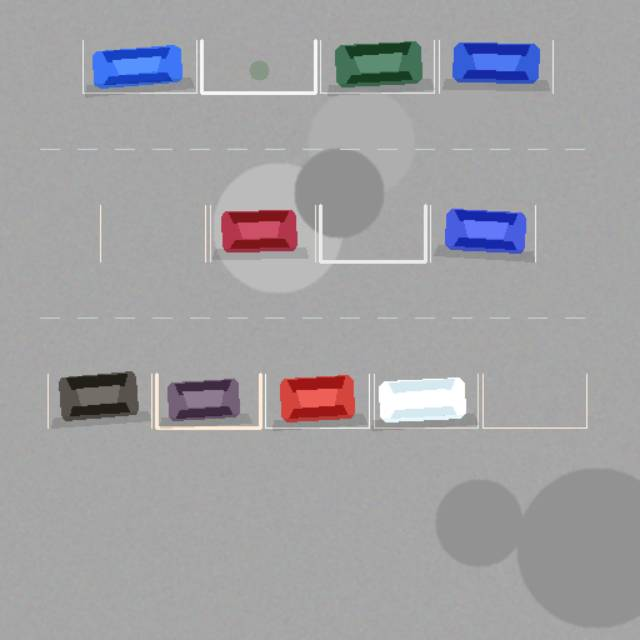space-empty: (201, 40, 315, 93), (100, 205, 205, 261), (320, 205, 425, 261), (483, 374, 586, 428)
space-occupied: (82, 40, 196, 93), (320, 40, 434, 93), (439, 40, 552, 93), (210, 205, 315, 261), (430, 205, 535, 261), (47, 374, 151, 428), (156, 374, 260, 428), (265, 374, 369, 428), (374, 374, 477, 428)
